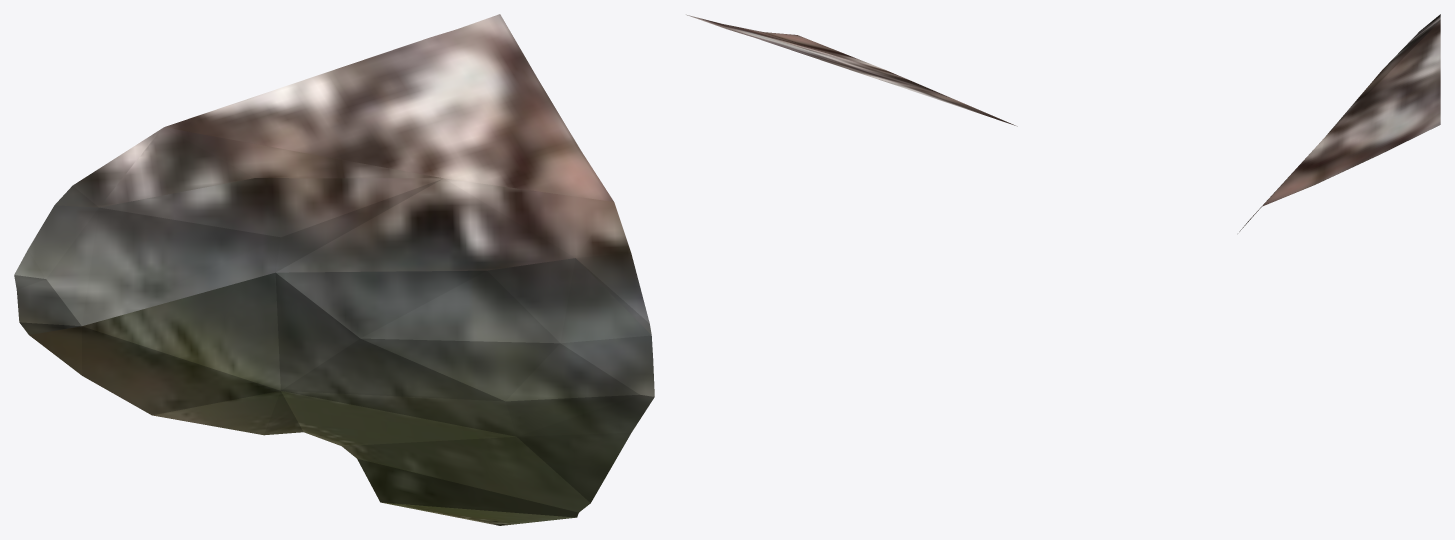
3 renders of one model, left to right at view 1: azimuth 30°, elevation 25°; view 2: azimuth 150°, elevation 25°; view 3: azimuth 270°, elevation 25°, orthographic. The views are drawn at different scales.
Bounding box in the file's own units: 0.6161 × 0.6201 × 0.3396.
Materials: 1 (1 with a texture image).
